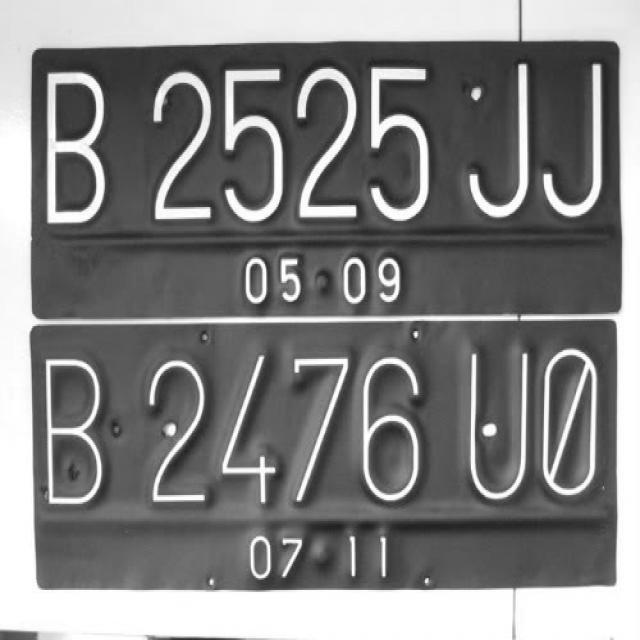2: (140, 340, 210, 516), (293, 61, 357, 242), (150, 65, 210, 236)
4: (213, 348, 281, 500)
5: (217, 67, 297, 230), (366, 58, 432, 238)
6: (358, 345, 434, 528)
7: (290, 340, 350, 510)
B: (40, 56, 106, 252), (41, 353, 112, 518)
J: (458, 50, 538, 226), (536, 62, 612, 226)
O: (538, 340, 604, 502)
U: (456, 334, 538, 498)
